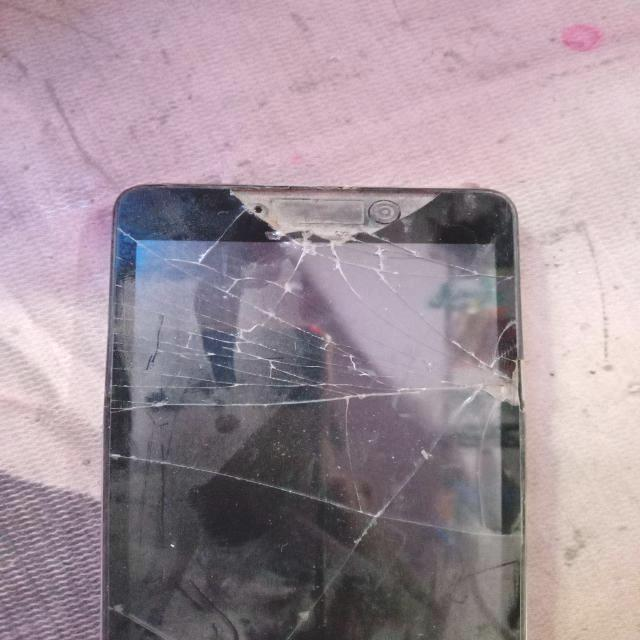phone: (91, 173, 544, 632)
